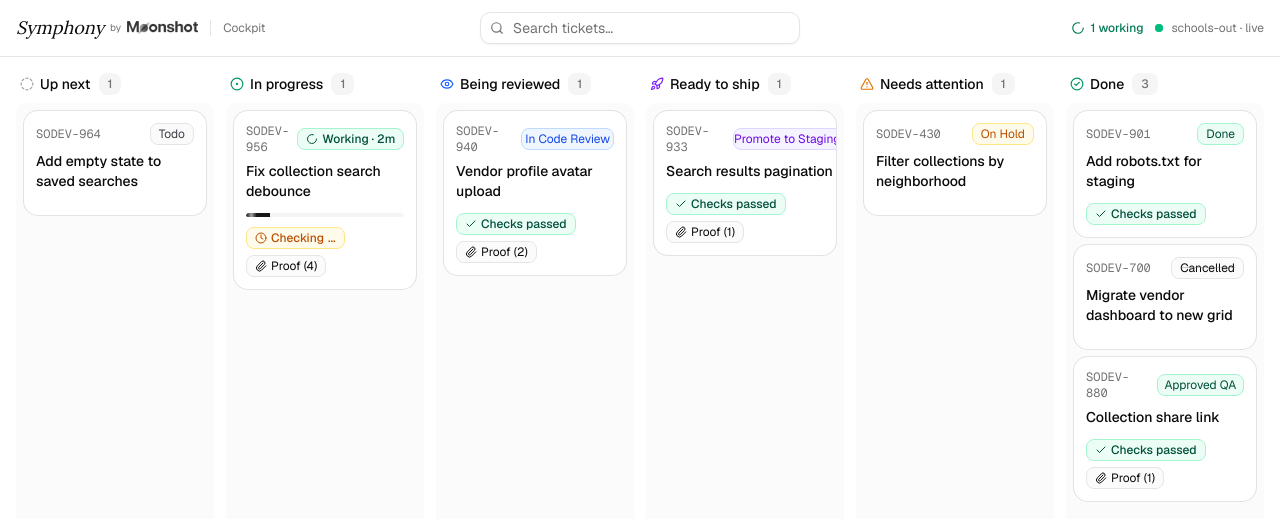
Scenario: Home (cockpit shell) › filters the board when typing in the header search
Expected: the text "Fix collection search debounce" is shown, [246,161,404,201]
Type "avatar" into the search field labelled "Search tickets…".
click(640, 28); type("avatar")  # box [480,12,800,44]
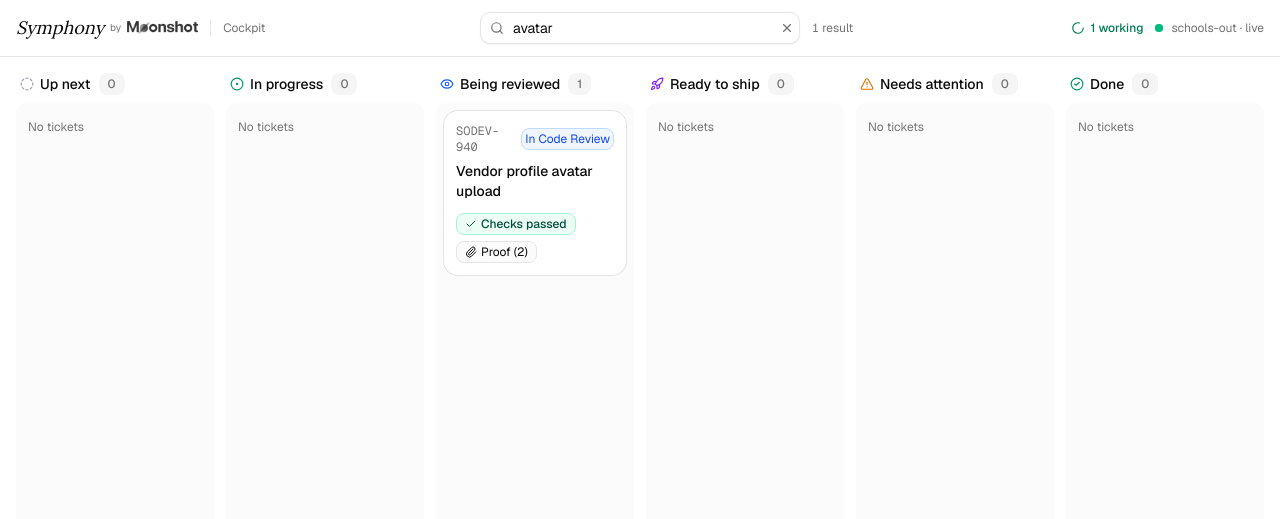
Expected: the text "Vendor profile avatar upload" is shown, [456,161,614,201]
Expected: the button "Fix collection search debounce" is gone
